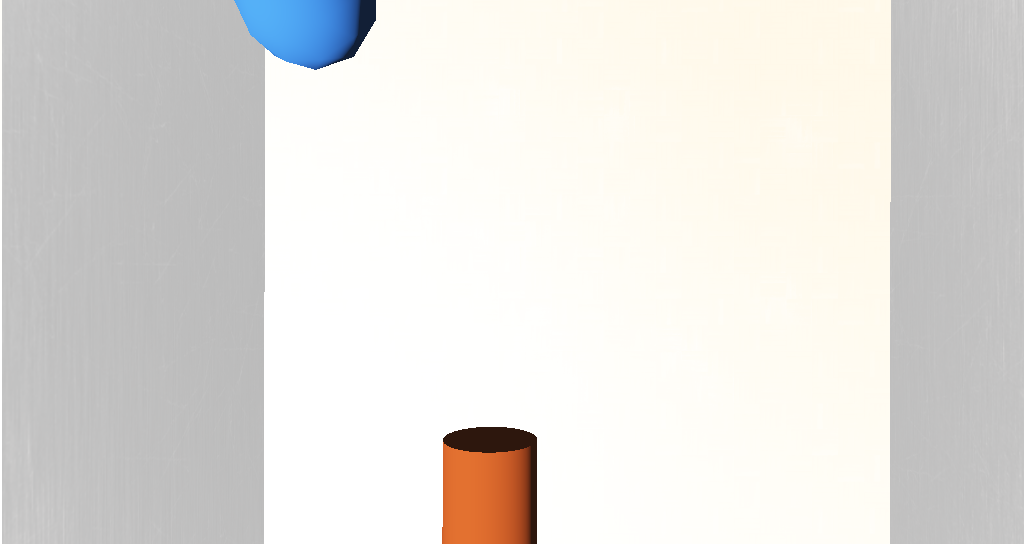cone: (441, 322, 488, 375)
cylinder: (606, 2, 701, 45)
sphere: (354, 160, 414, 203)
